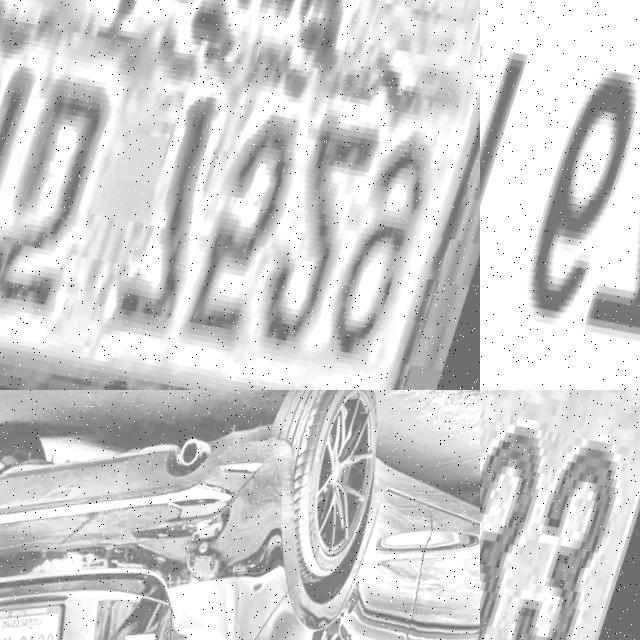license-plate: (0, 0, 480, 390), (480, 0, 640, 390), (480, 390, 640, 640), (0, 579, 84, 640)
